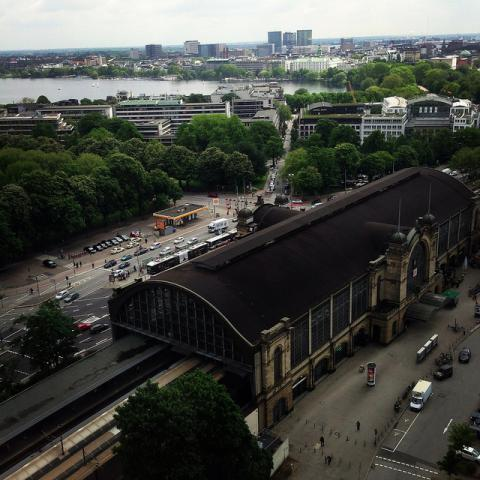bus: (147, 252, 181, 275), (206, 232, 230, 249)
car: (52, 163, 479, 464), (458, 346, 471, 362), (43, 258, 57, 269), (148, 242, 162, 250), (110, 247, 126, 254), (83, 246, 97, 254), (159, 246, 172, 254), (120, 254, 133, 262), (126, 242, 140, 249), (173, 236, 185, 244), (118, 261, 130, 269), (114, 269, 124, 278), (101, 240, 113, 247), (187, 238, 199, 244)
truck: (409, 379, 432, 411), (434, 364, 452, 382), (208, 218, 228, 233)
